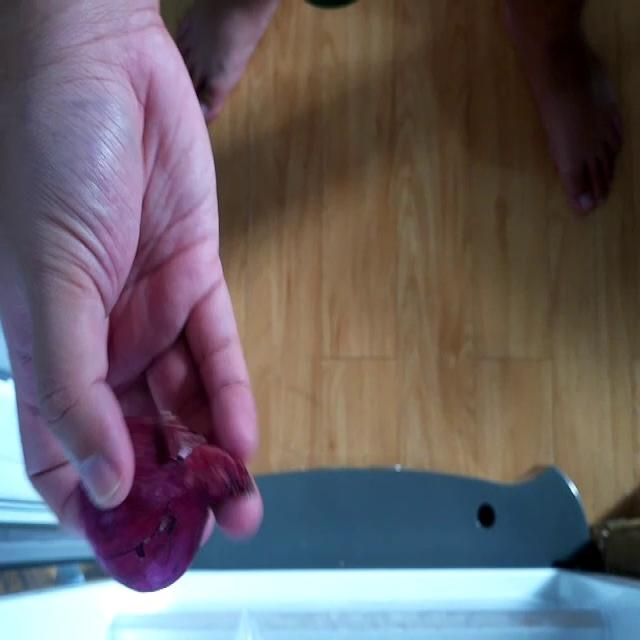onion: (79, 406, 254, 593)
